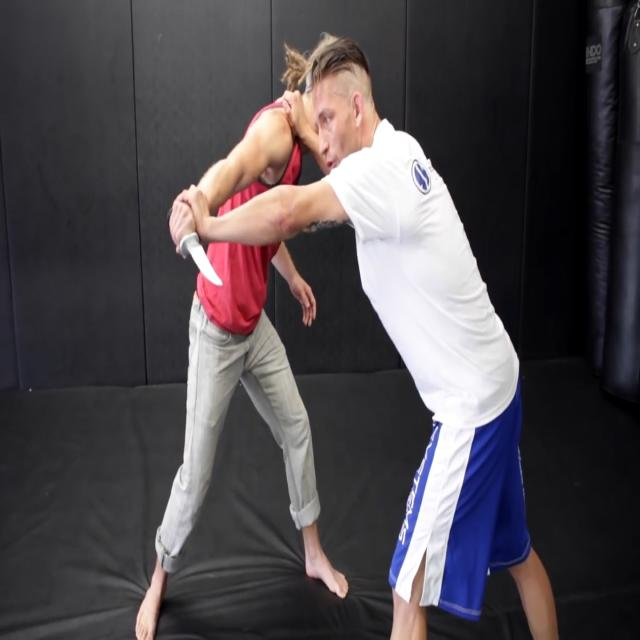knife: (183, 234, 223, 287)
